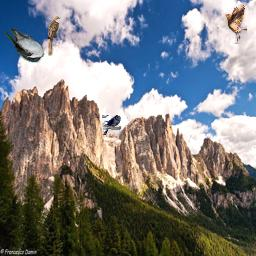Cuckoo: (48, 16, 61, 56)
Sparrow: (225, 4, 247, 44)
Swallow: (5, 28, 45, 63), (102, 115, 121, 135)
